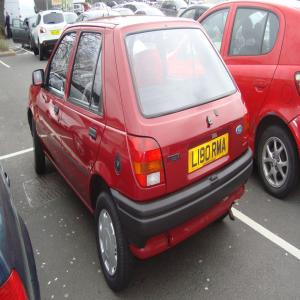Vehicle-registration-plate: (187, 126, 235, 177), (52, 31, 61, 37)
